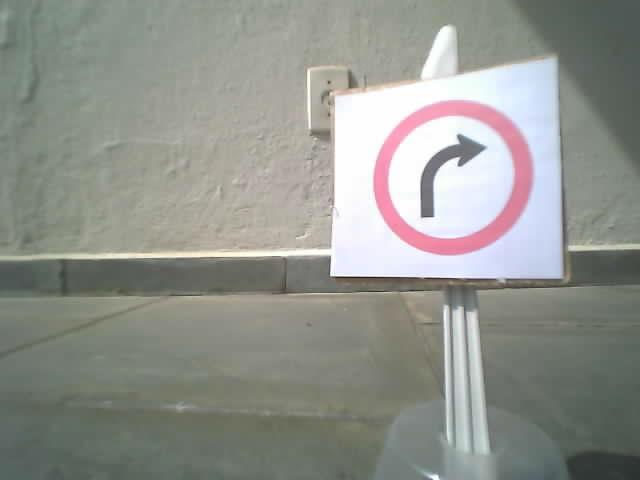R-25b_direita: (372, 98, 533, 255)
